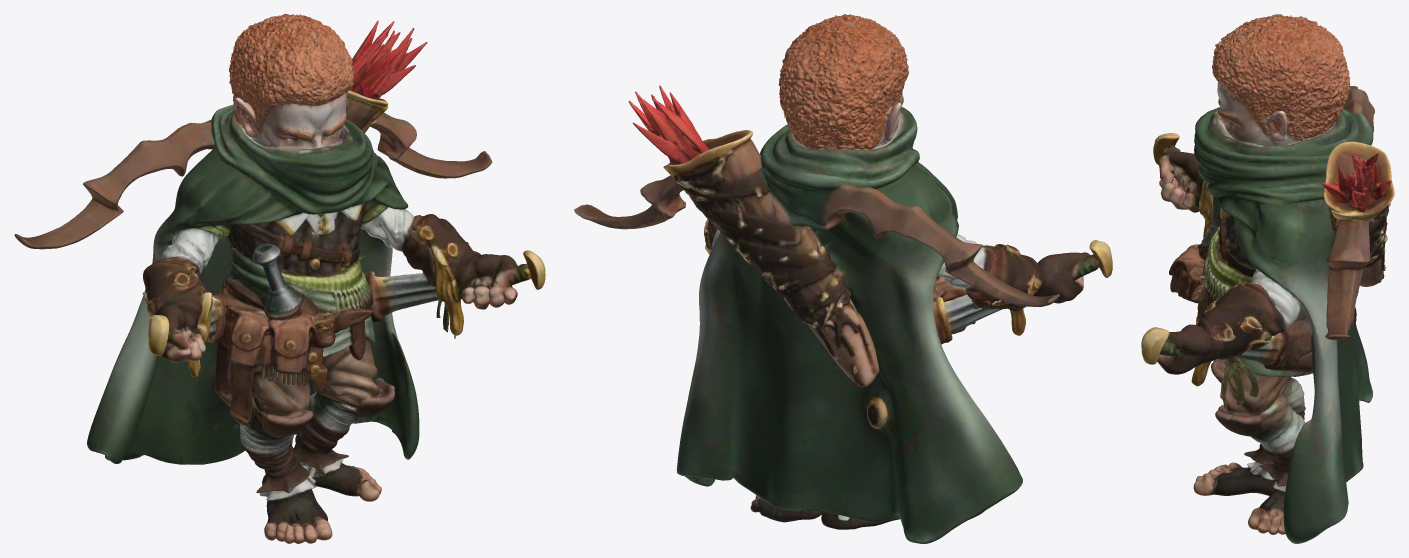
File: halflingrogue.glb
The picture shows the model from 3 angles, left to right: view 1: azimuth 30°, elevation 25°; view 2: azimuth 150°, elevation 25°; view 3: azimuth 270°, elevation 25°; orthographic projection. The views are drawn at different scales.
Bounding box in the file's own units: 1.9 × 1.9 × 0.9106.
Materials: 1 (1 with a texture image).
